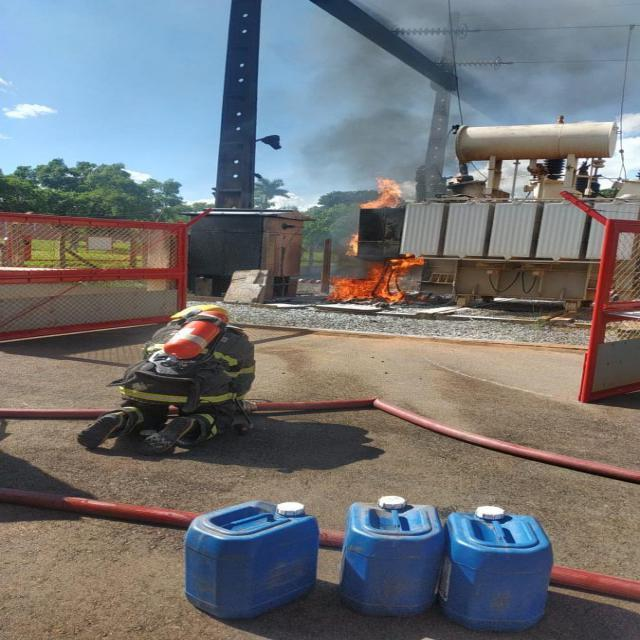Fire: (323, 260, 428, 302), (358, 176, 411, 210), (343, 232, 361, 254)
